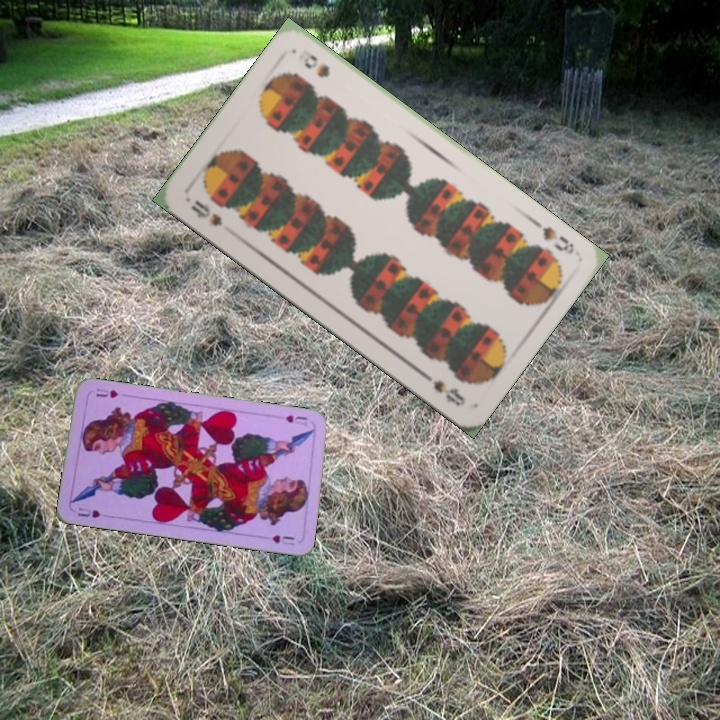HU: (73, 503, 102, 520), (282, 411, 310, 428)
S8: (528, 215, 578, 258), (186, 196, 225, 229)
